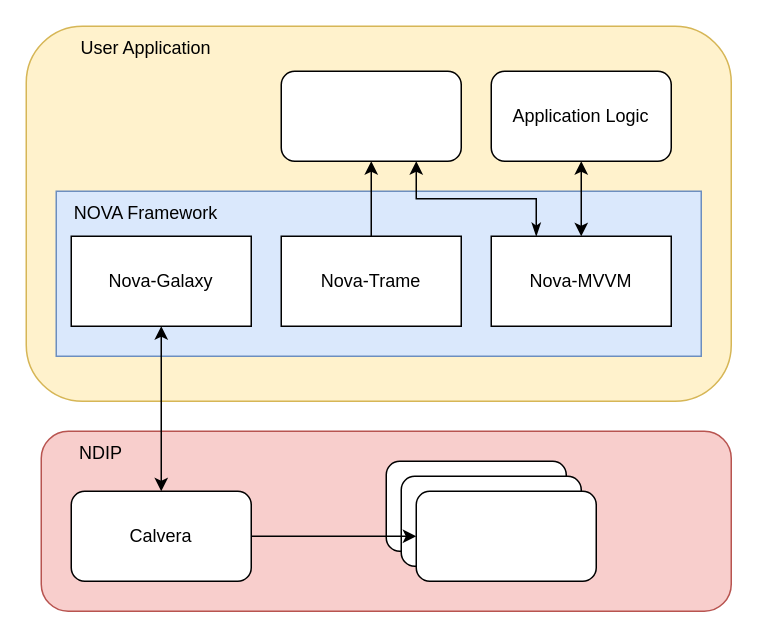
This 758x638 diagram has some shape labels left out. The shapes that lost their labels are listed below. From the top down, each one's centre as x and y in pixels, then its label:
At pixel 370 115: "Application UI".
At pixel 505 535: "Job Runners".
